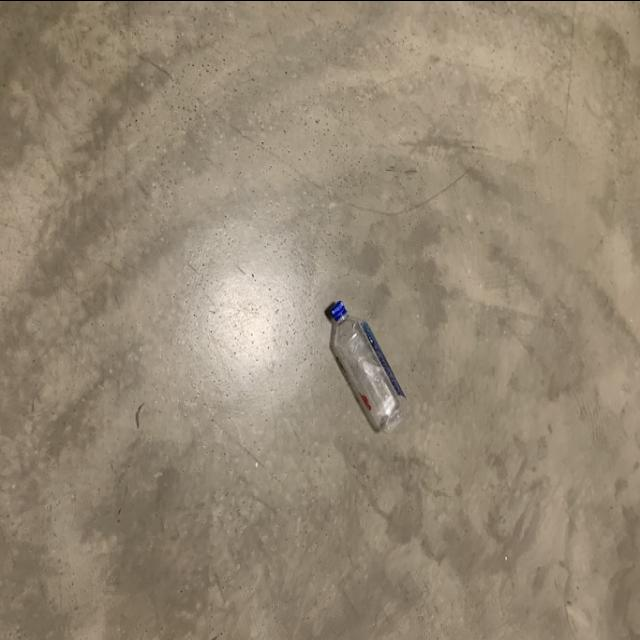litter: (324, 298, 412, 436)
